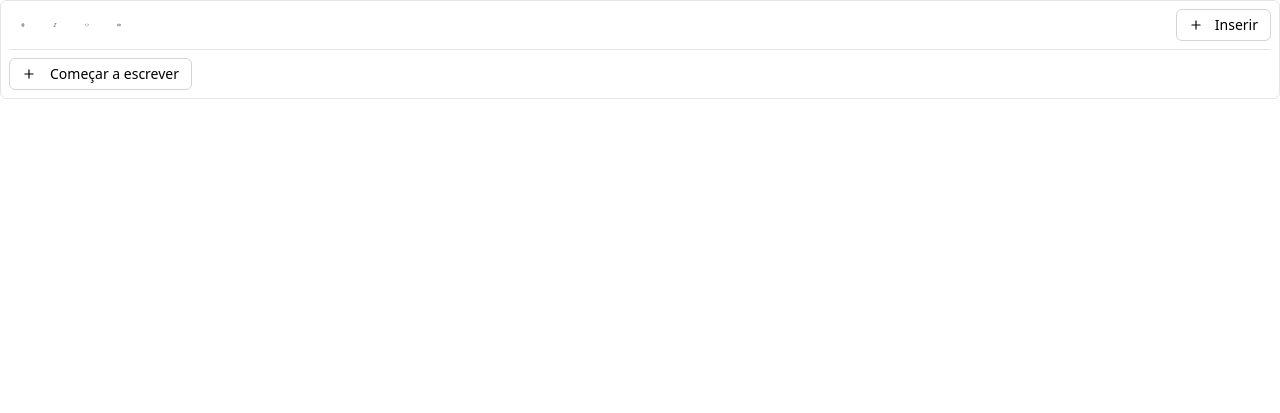
Test case: RichDocEditor — blocos › "/" numa linha vazia abre o menu de inserção
Click the button "Começar a escrever".
click(100, 74)  # box [9, 58, 192, 90]
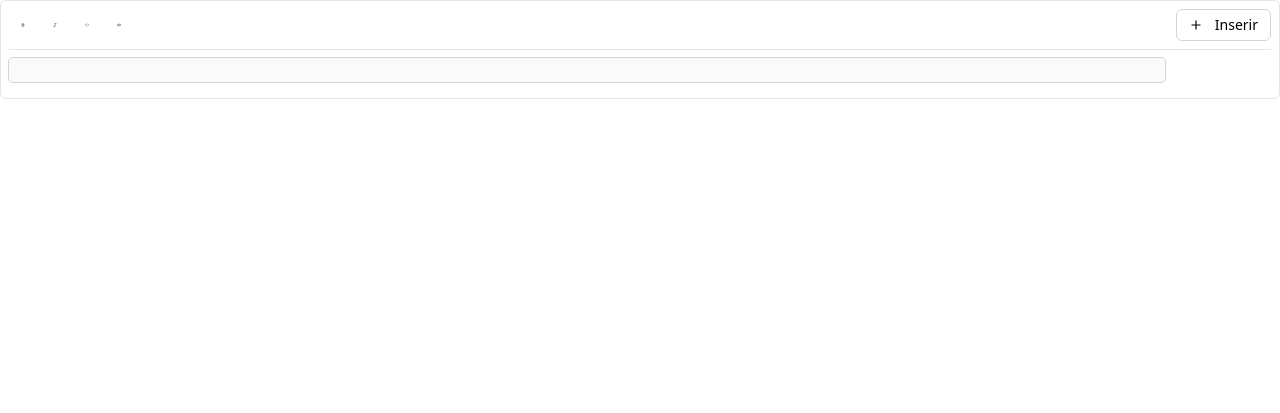
Press / in the field named "Parágrafo da especificação", box [9, 58, 1165, 82]
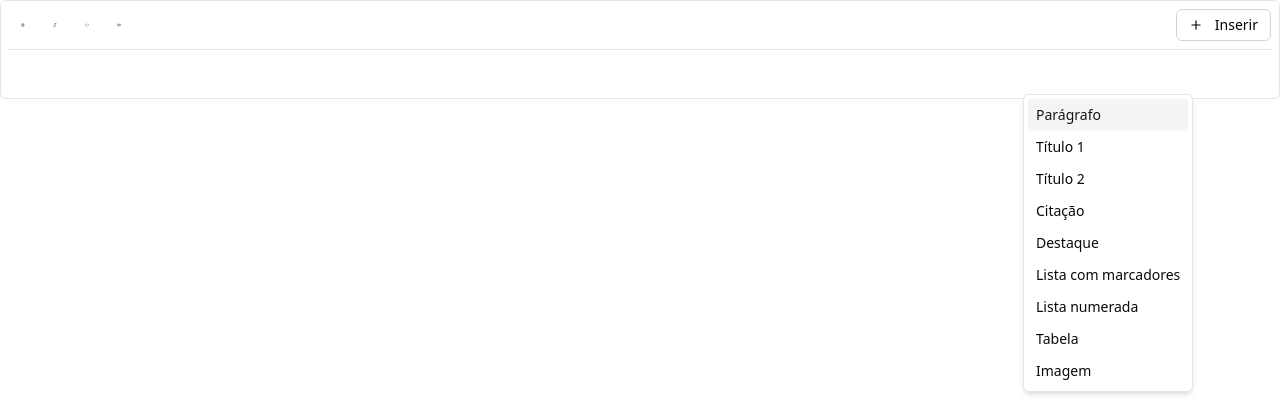
Now the menu item "Lista com marcadores" is shown, box [1036, 265, 1180, 284]
